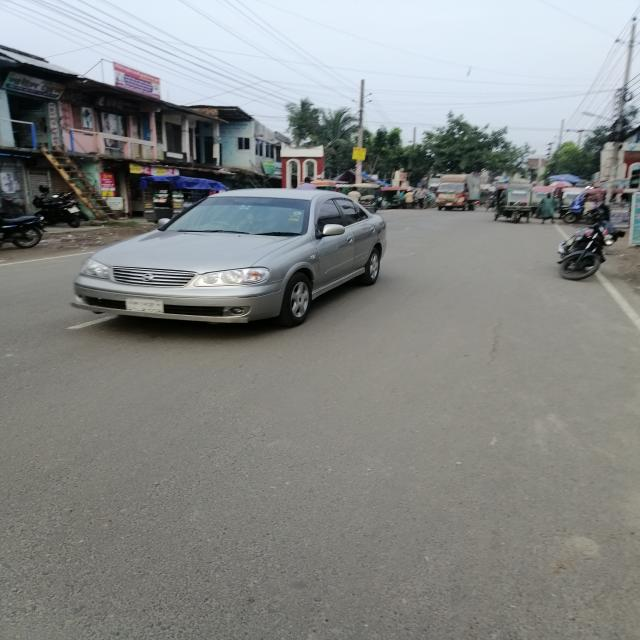Car: (65, 189, 396, 352)
Motorbike: (556, 208, 630, 290)
